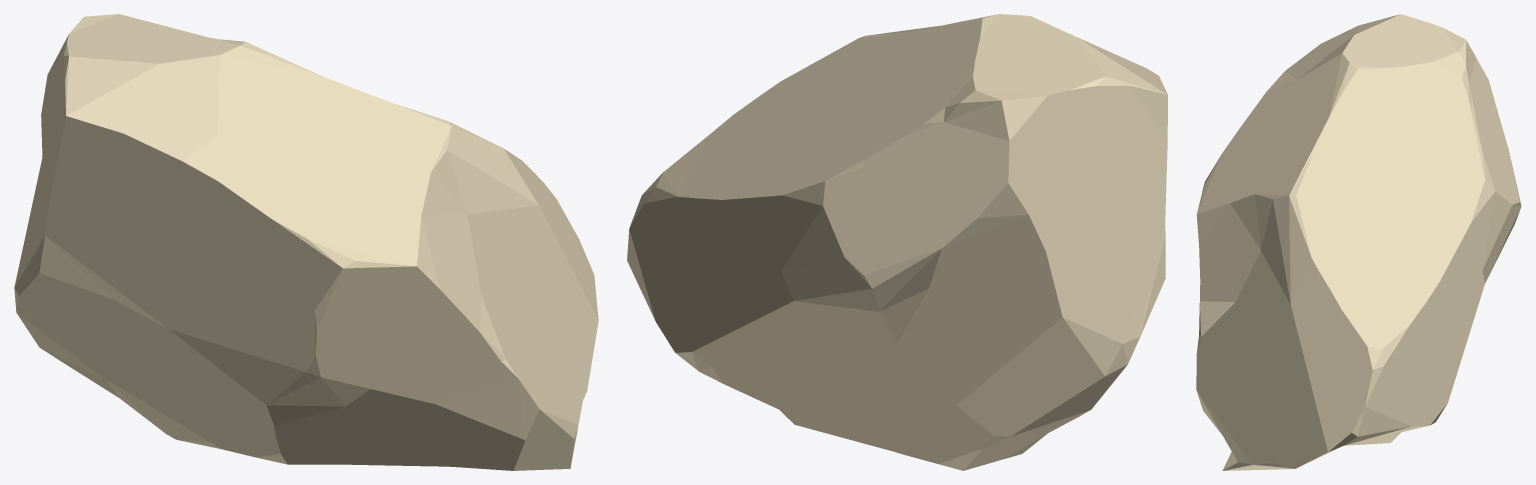
File: Rock_02.fbx
3 views of the same model, side by side, from view 1: azimuth 30°, elevation 25°; view 2: azimuth 150°, elevation 25°; view 3: azimuth 270°, elevation 25° (orthographic). The views are drawn at different scales.
Parts seen in each view (by area): view 1: Rock_02; view 2: Rock_02; view 3: Rock_02.
Part boxes in pixels (bbox=[...]): Rock_02: bbox=[14, 14, 598, 470]; Rock_02: bbox=[627, 14, 1167, 470]; Rock_02: bbox=[1196, 14, 1521, 470].
Bounding box in the file's own units: 293 × 220 × 204.
